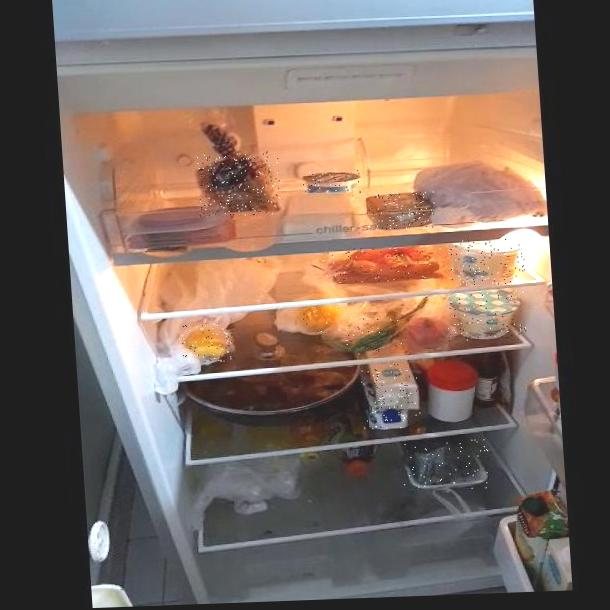bread: (195, 151, 282, 217)
broccoli: (401, 439, 491, 491)
butter: (367, 191, 436, 231)
carrots: (325, 245, 444, 285)
green chilies: (343, 315, 412, 355)
lemon: (181, 323, 235, 363), (293, 304, 350, 333)
milk: (360, 362, 423, 430)
yoghurt: (446, 290, 527, 341), (448, 238, 528, 286), (301, 170, 362, 195)
